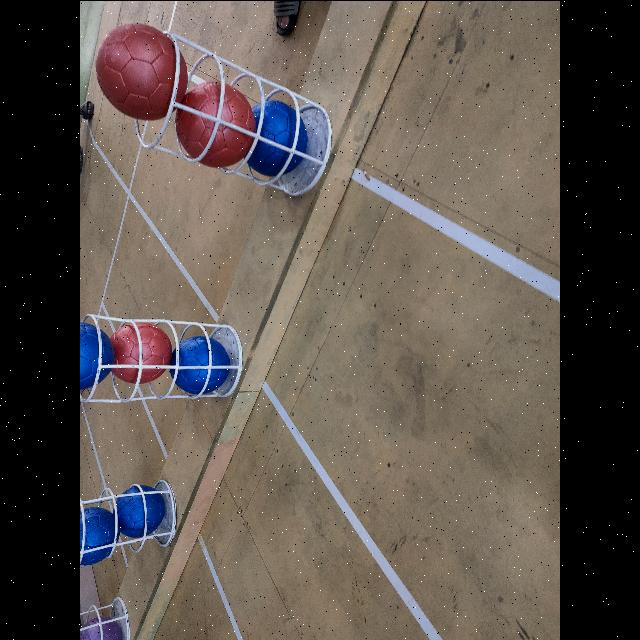B: (255, 99, 307, 175), (173, 334, 229, 394), (114, 484, 164, 536), (80, 320, 114, 390), (80, 506, 118, 564)
R: (95, 24, 188, 118), (174, 80, 253, 168), (108, 320, 172, 382)
